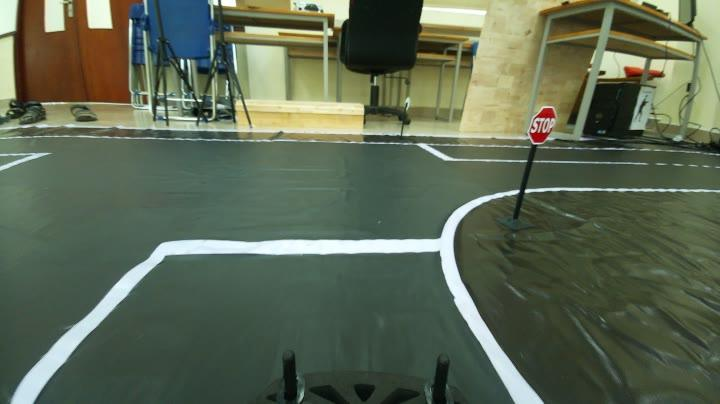stop: (520, 102, 562, 152)
